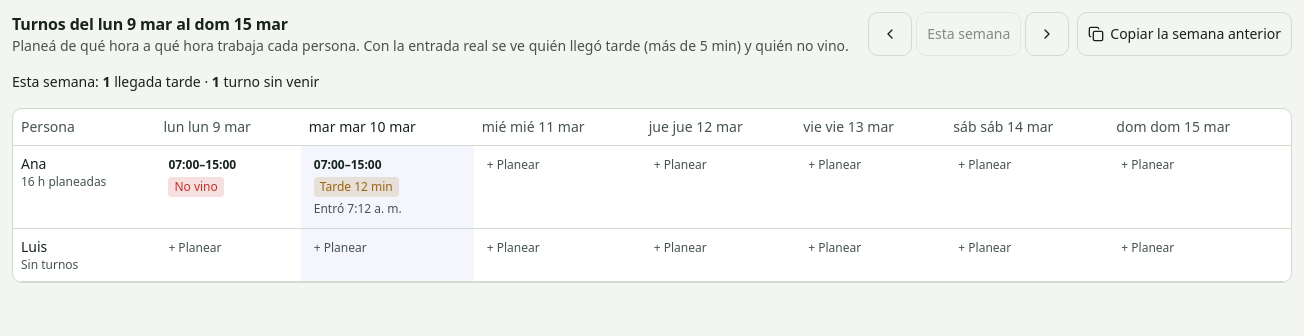
Test: PlanningTab › copiar la semana anterior dice cuántos turnos copió y cuántos no
Click the button "Copiar la semana anterior" at (1185, 34), box [1077, 12, 1292, 56]
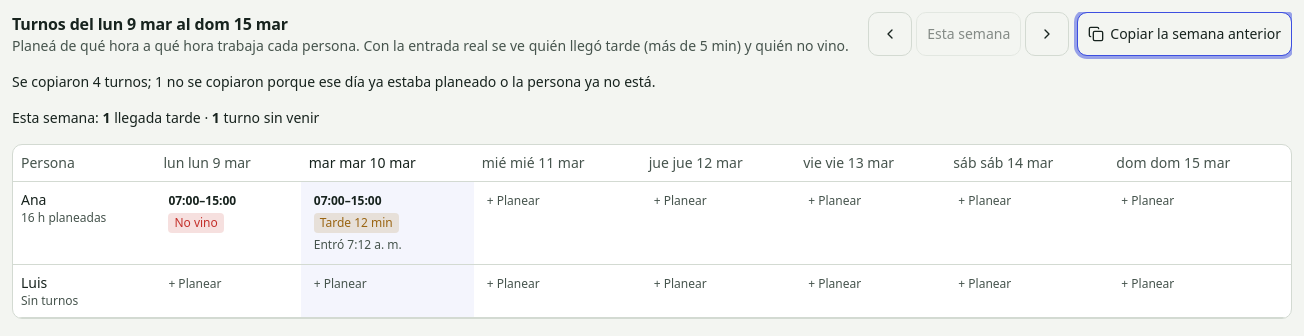
Check: the text "Se copiaron 4 turnos; 1 no se copiaron" is shown, box [12, 72, 656, 91]
